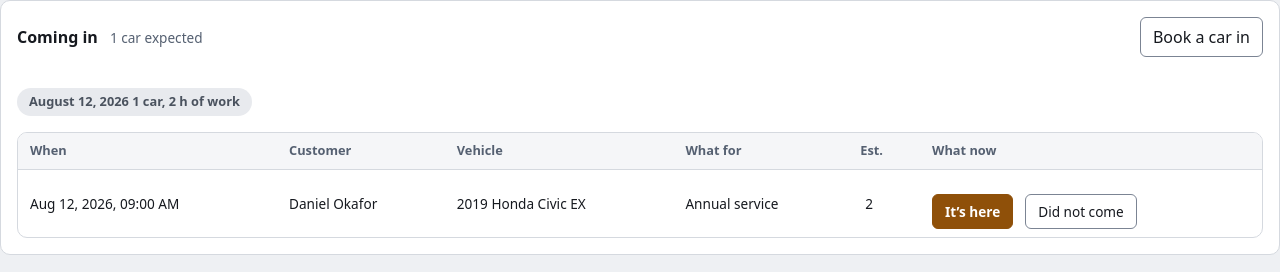
Test case: the service diary › escape abandons the edit and sends nothing
The image size is (1280, 272).
Click the button "2": point(872, 203) [860,188,884,219]
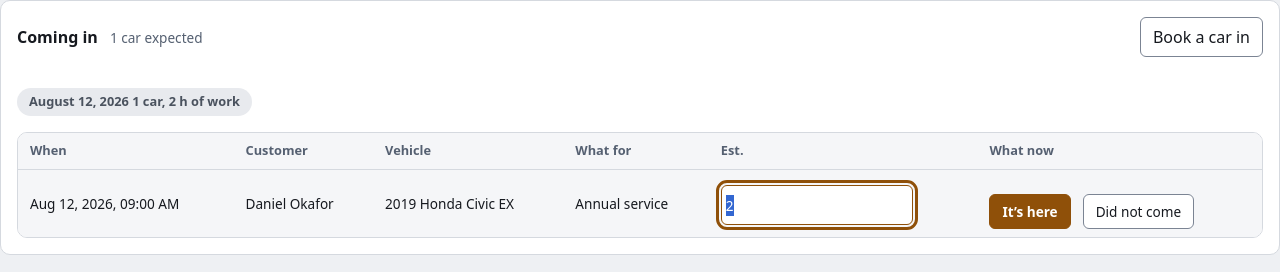
Replace the text in the field named "Est." with "99": point(817, 205) [721,185,913,225]
Then press Escape
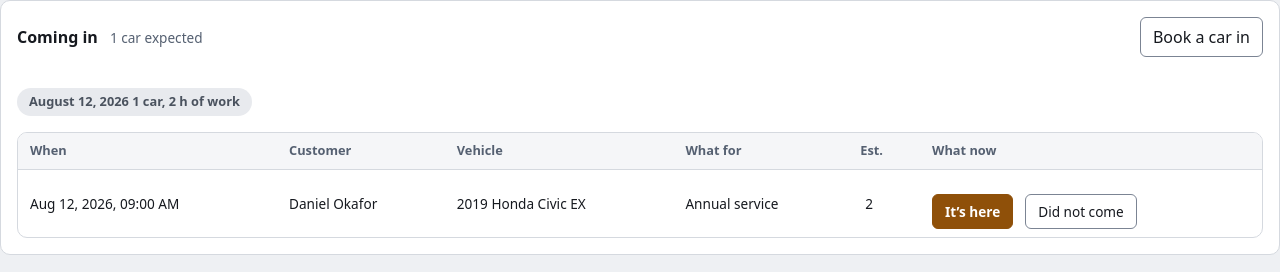
Result: the button "2" is shown at [860,188,884,219]
